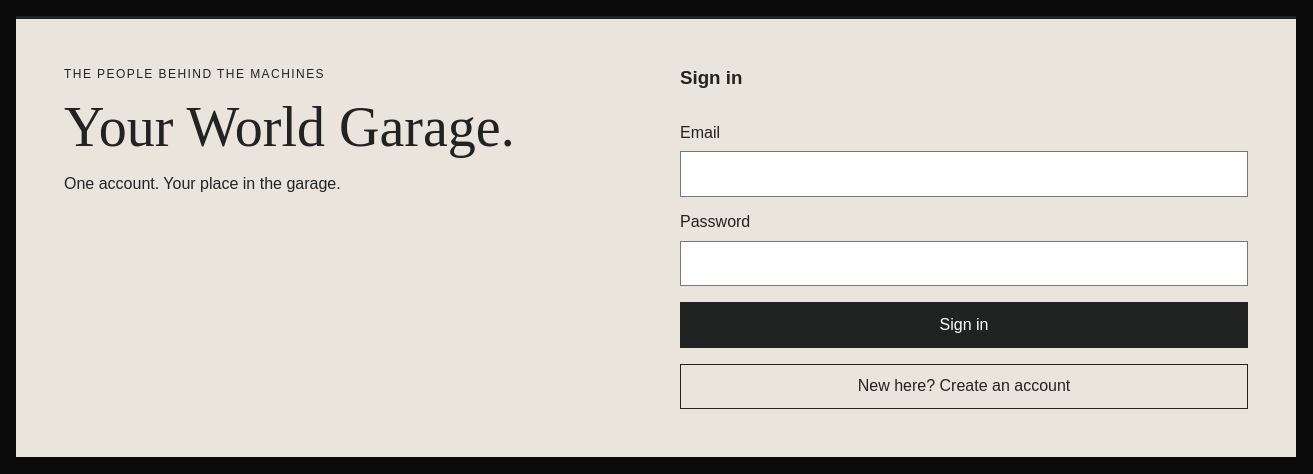
Test: account authentication › logs in with CSRF and refreshes identity
Type "owner@example.com" into the field with id "account-email". click: (964, 174)
box: [680,151,1248,197]
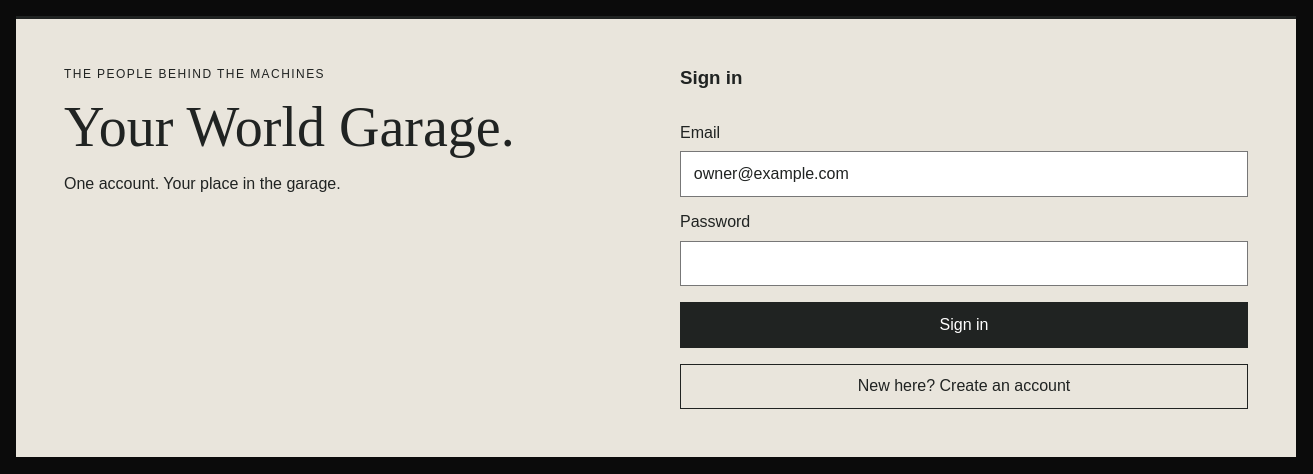
Type "Garage@2026" into the password field with id "account-password". click: (964, 263)
box: [680,240,1248,286]
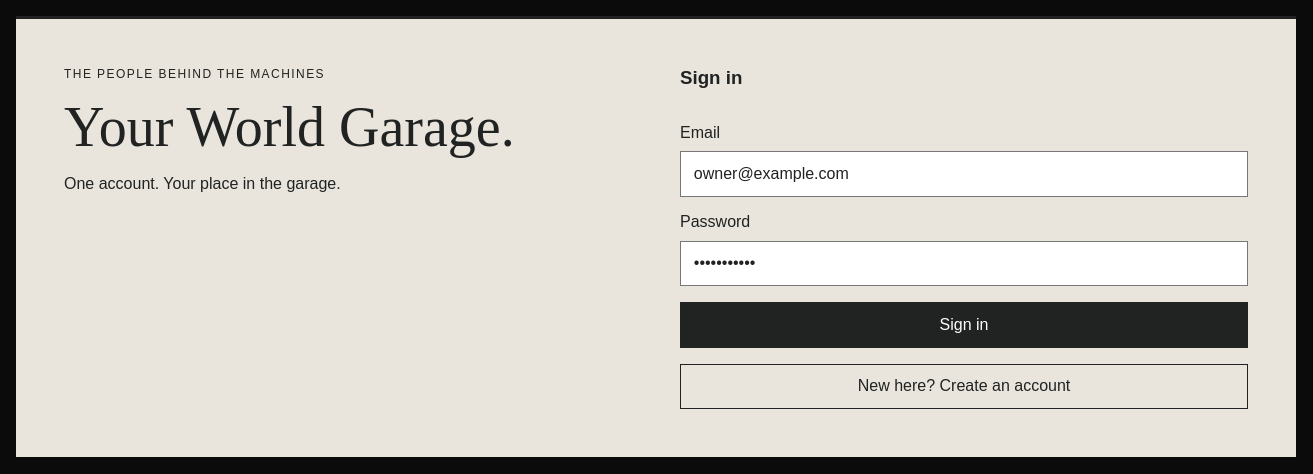
Submit the form, box [680,67,1248,409]
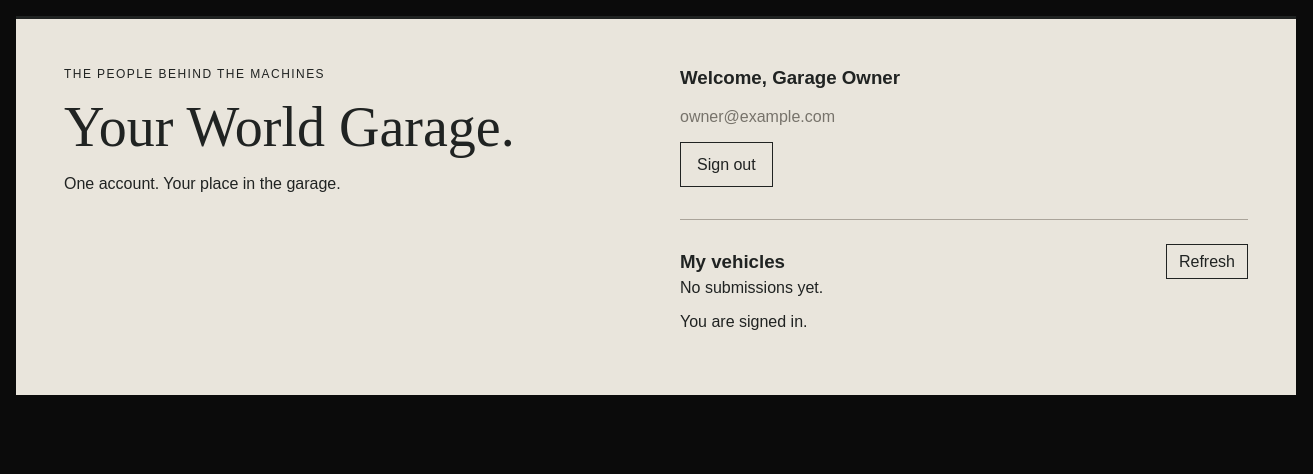
Result: the text "Welcome, Garage Owner" is shown at [680,67,900,88]
